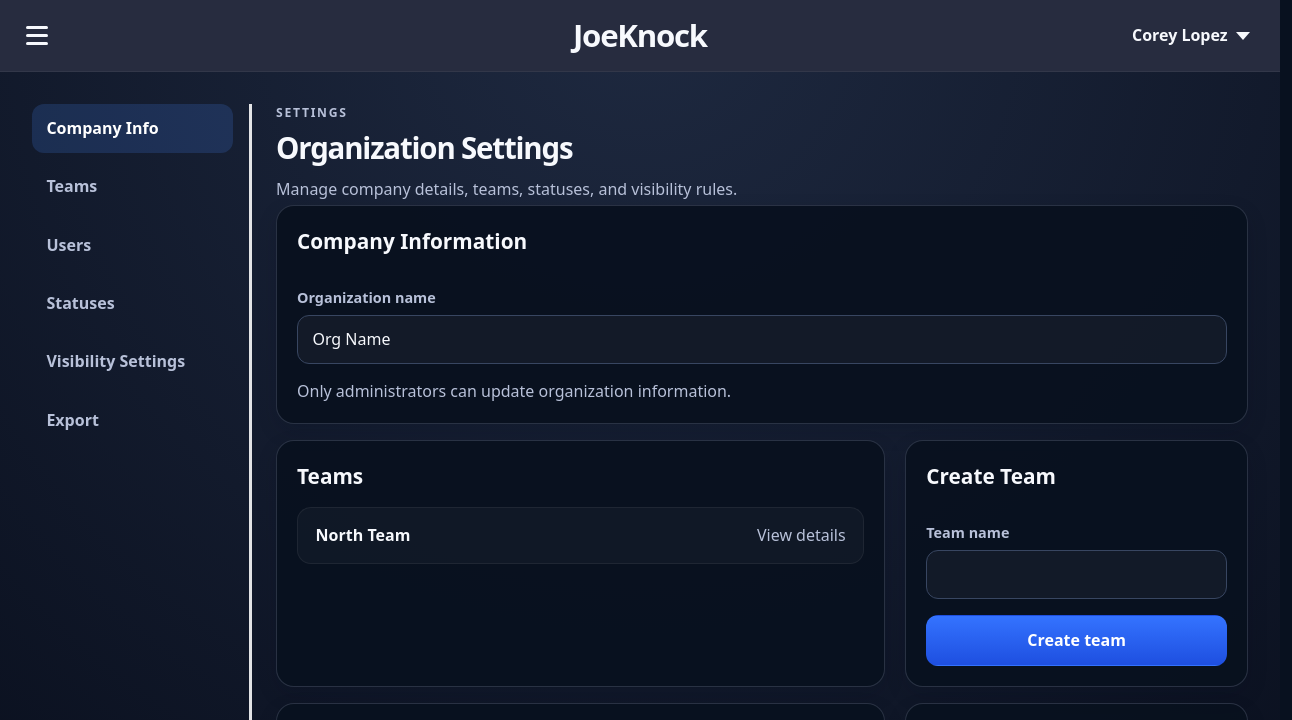
it: settings page › shows API error when member removal fails
Expected: the text "North Team" is shown, [316, 524, 410, 547]
Click the button "North Team View details": x=363, y=535 [297, 507, 864, 564]
(page scrolled)
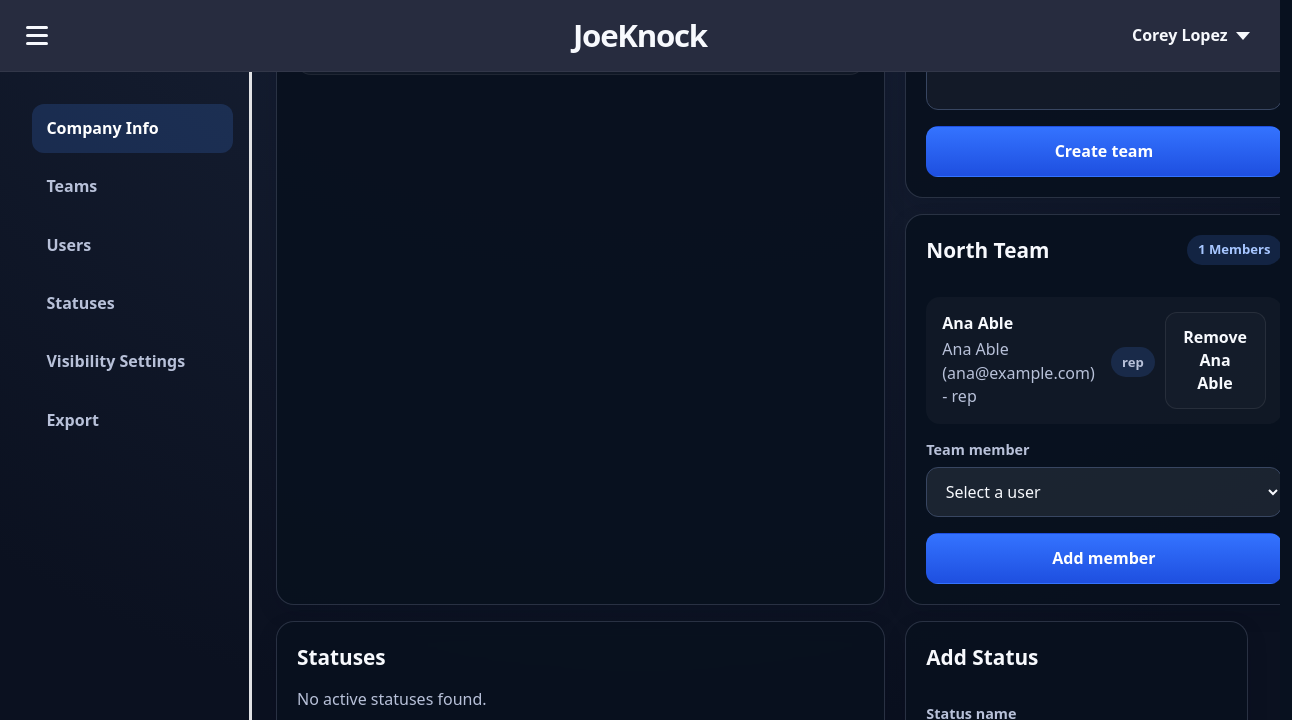
Expected: the text "Ana Able (ana@example.com) - rep" is shown, [942, 338, 1095, 408]
Click the button "Remove Ana Able": x=1215, y=361 [1164, 312, 1266, 409]
(page scrolled)
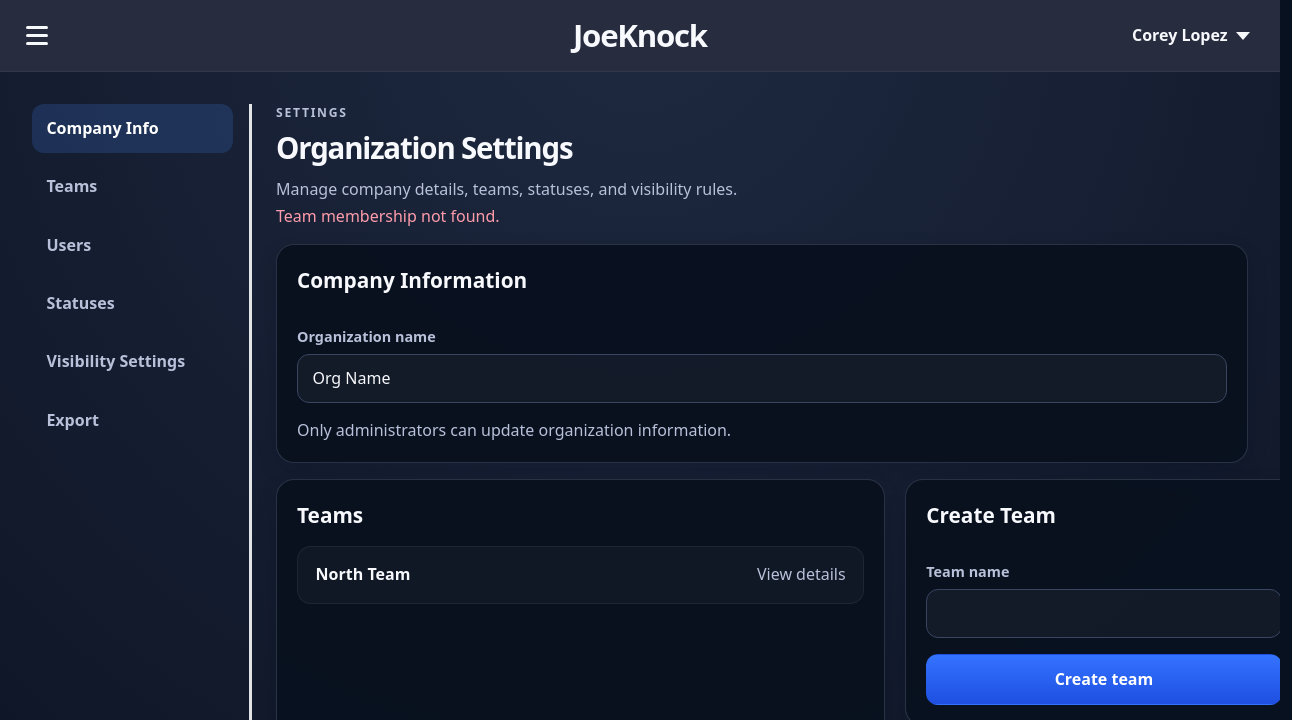
Expected: the message reads "Team membership not found.", [276, 205, 500, 227]
